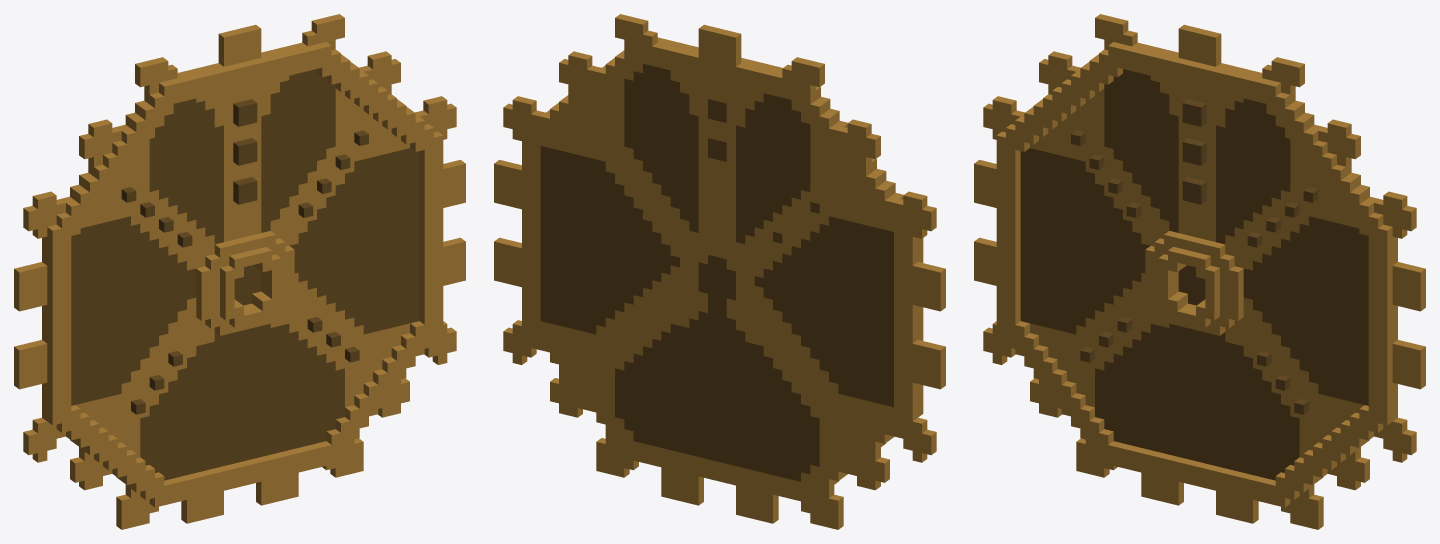
The model's file is GGJ thing 02.obj.
3 renders of one model, left to right at view 1: azimuth 30°, elevation 25°; view 2: azimuth 150°, elevation 25°; view 3: azimuth 330°, elevation 25°, orthographic.
Size of the model in its own units: 4.8 by 4.9 by 0.3.
1 material, 1 textured.
